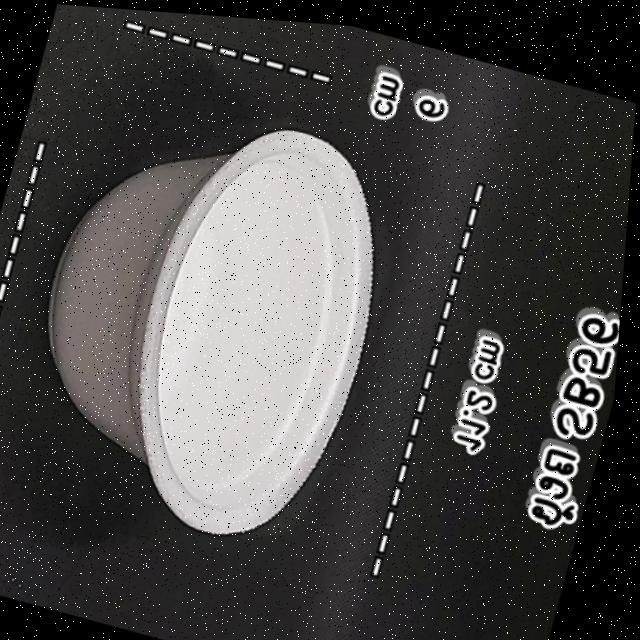foam: (0, 52, 449, 574)
